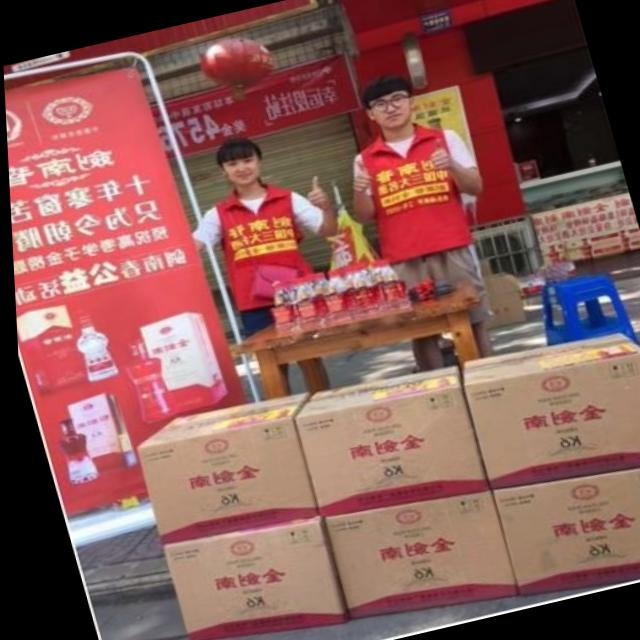box: (291, 366, 482, 515), (459, 331, 640, 488), (133, 391, 313, 544), (317, 490, 512, 619), (156, 516, 338, 640), (487, 467, 640, 595), (478, 272, 522, 329)
